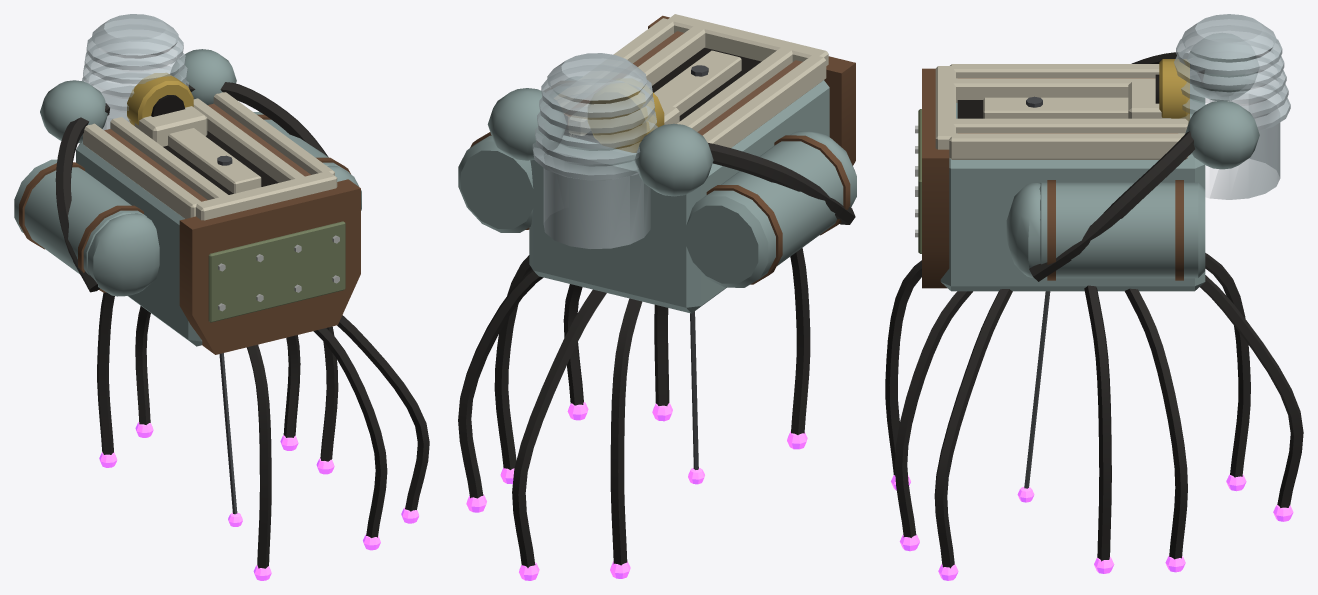
Rendered from capture-robot.glb.
3 views of the same model, side by side, from view 1: azimuth 30°, elevation 25°; view 2: azimuth 150°, elevation 25°; view 3: azimuth 270°, elevation 25° (orthographic). The views are drawn at different scales.
Parts seen in each view (by area): view 1: body, anim_cable, anim_cable.001, anim_cable.002, anim_cable.006, anim_cable.003, anim_cable.005, anim_cable.004, anim_cable.007; view 2: body, anim_cable.005, anim_cable.006, anim_cable.004, anim_cable, anim_cable.003, anim_cable.001, anim_cable.002, anim_cable.007; view 3: body, anim_cable.002, anim_cable.004, anim_cable.003, anim_cable.005, anim_cable.001, anim_cable.006, anim_cable, anim_cable.007.
Part boxes in pixels (<box>): body: <box>14,14,361,354</box>; anim_cable: <box>246,344,271,580</box>; anim_cable.001: <box>313,328,387,550</box>; anim_cable.002: <box>337,315,429,523</box>; anim_cable.006: <box>97,292,117,467</box>; anim_cable.003: <box>316,326,338,474</box>; anim_cable.005: <box>135,306,153,437</box>; anim_cable.004: <box>280,335,300,450</box>; anim_cable.007: <box>219,353,242,526</box>; body: <box>458,14,856,313</box>; anim_cable.005: <box>512,289,606,580</box>; anim_cable.006: <box>610,298,642,578</box>; anim_cable.004: <box>458,269,543,512</box>; anim_cable: <box>787,248,810,449</box>; anim_cable.003: <box>494,255,531,484</box>; anim_cable.001: <box>652,304,672,421</box>; anim_cable.002: <box>563,284,588,420</box>; anim_cable.007: <box>688,311,704,484</box>; body: <box>915,14,1290,291</box>; anim_cable.002: <box>934,289,1012,580</box>; anim_cable.004: <box>1124,288,1187,572</box>; anim_cable.003: <box>1084,285,1114,573</box>; anim_cable.005: <box>1200,275,1303,521</box>; anim_cable.001: <box>894,291,972,551</box>; anim_cable.006: <box>1205,253,1250,491</box>; anim_cable: <box>885,260,921,490</box>; anim_cable.007: <box>1017,291,1050,502</box>.
Size of the model in its own units: 2.19 by 3.09 by 2.45.
